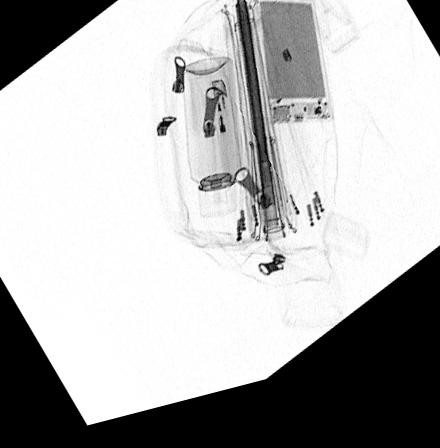Lighter: (210, 89, 238, 183)
Powerbank: (253, 10, 333, 139)
Sprayer: (182, 67, 240, 230)
